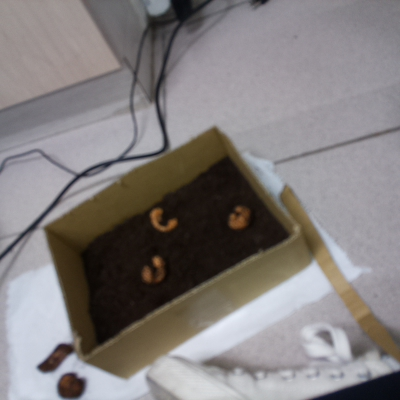eggs: (144, 203, 180, 234), (138, 251, 168, 287), (223, 202, 254, 232)
